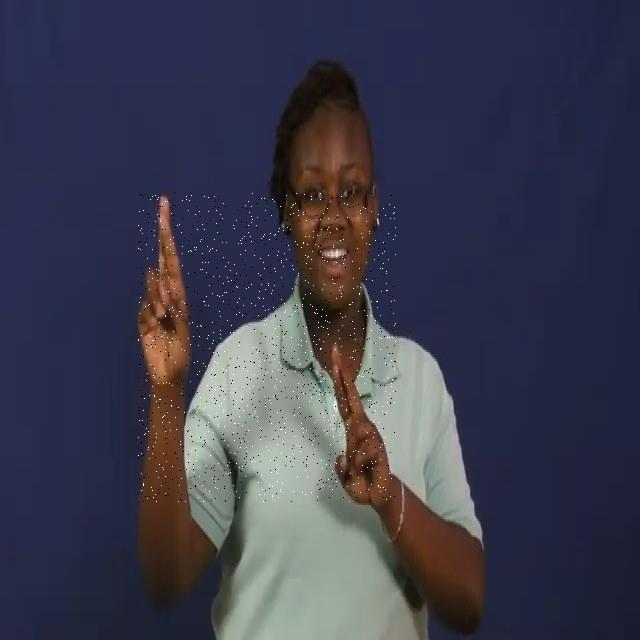ready: (138, 192, 396, 502)
